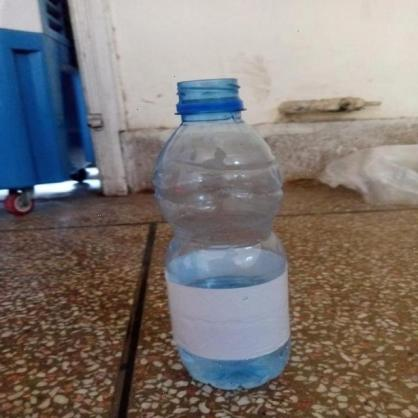bottle: (153, 71, 301, 399)
label: (159, 259, 301, 368)
